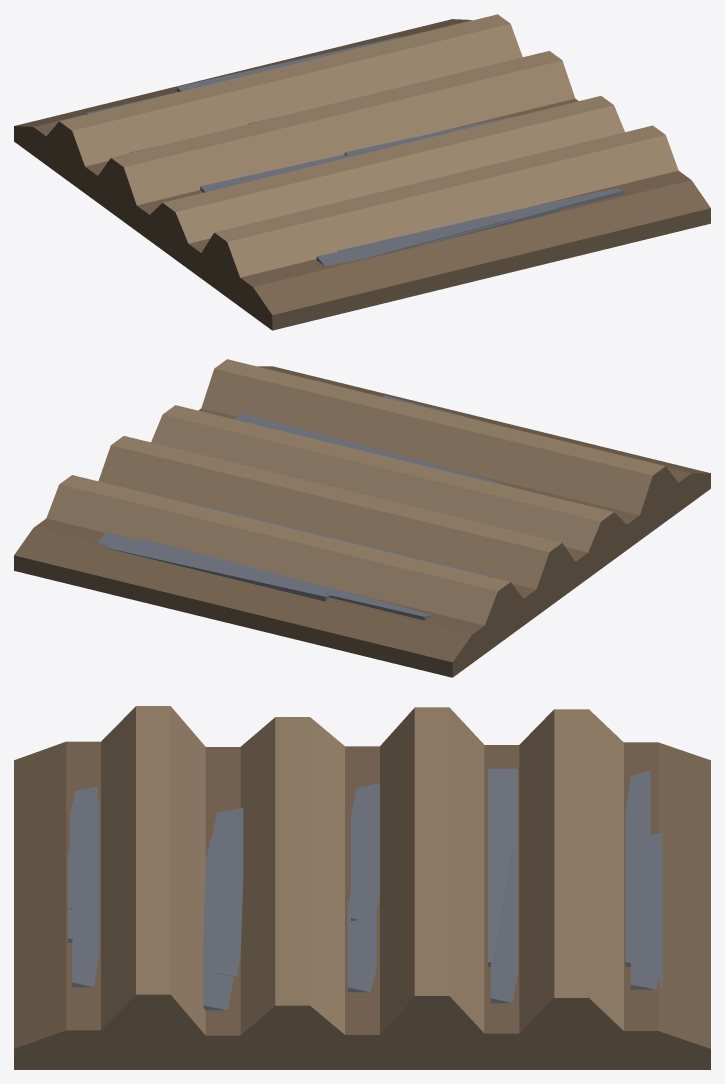
The model's file is 33-Agricultura_tierra_regada.glb.
The picture shows the model from 3 angles, top to bottom: view 1: azimuth 30°, elevation 25°; view 2: azimuth 150°, elevation 25°; view 3: azimuth 270°, elevation 25°; orthographic projection. The views are drawn at different scales.
Parts seen in each view (by area): view 1: SM_TierraRegada_M_TierraRegada_Cresta_TierraRegada_Valle_Tie; view 2: SM_TierraRegada_M_TierraRegada_Cresta_TierraRegada_Valle_Tie; view 3: SM_TierraRegada_M_TierraRegada_Cresta_TierraRegada_Valle_Tie.
Boxes of the visible parts, bbox=[...] form: SM_TierraRegada_M_TierraRegada_Cresta_TierraRegada_Valle_Tie: bbox=[14, 14, 710, 330]; SM_TierraRegada_M_TierraRegada_Cresta_TierraRegada_Valle_Tie: bbox=[14, 359, 710, 677]; SM_TierraRegada_M_TierraRegada_Cresta_TierraRegada_Valle_Tie: bbox=[14, 706, 710, 1069].
Size of the model in its own units: 0.98 by 0.1188 by 1.
